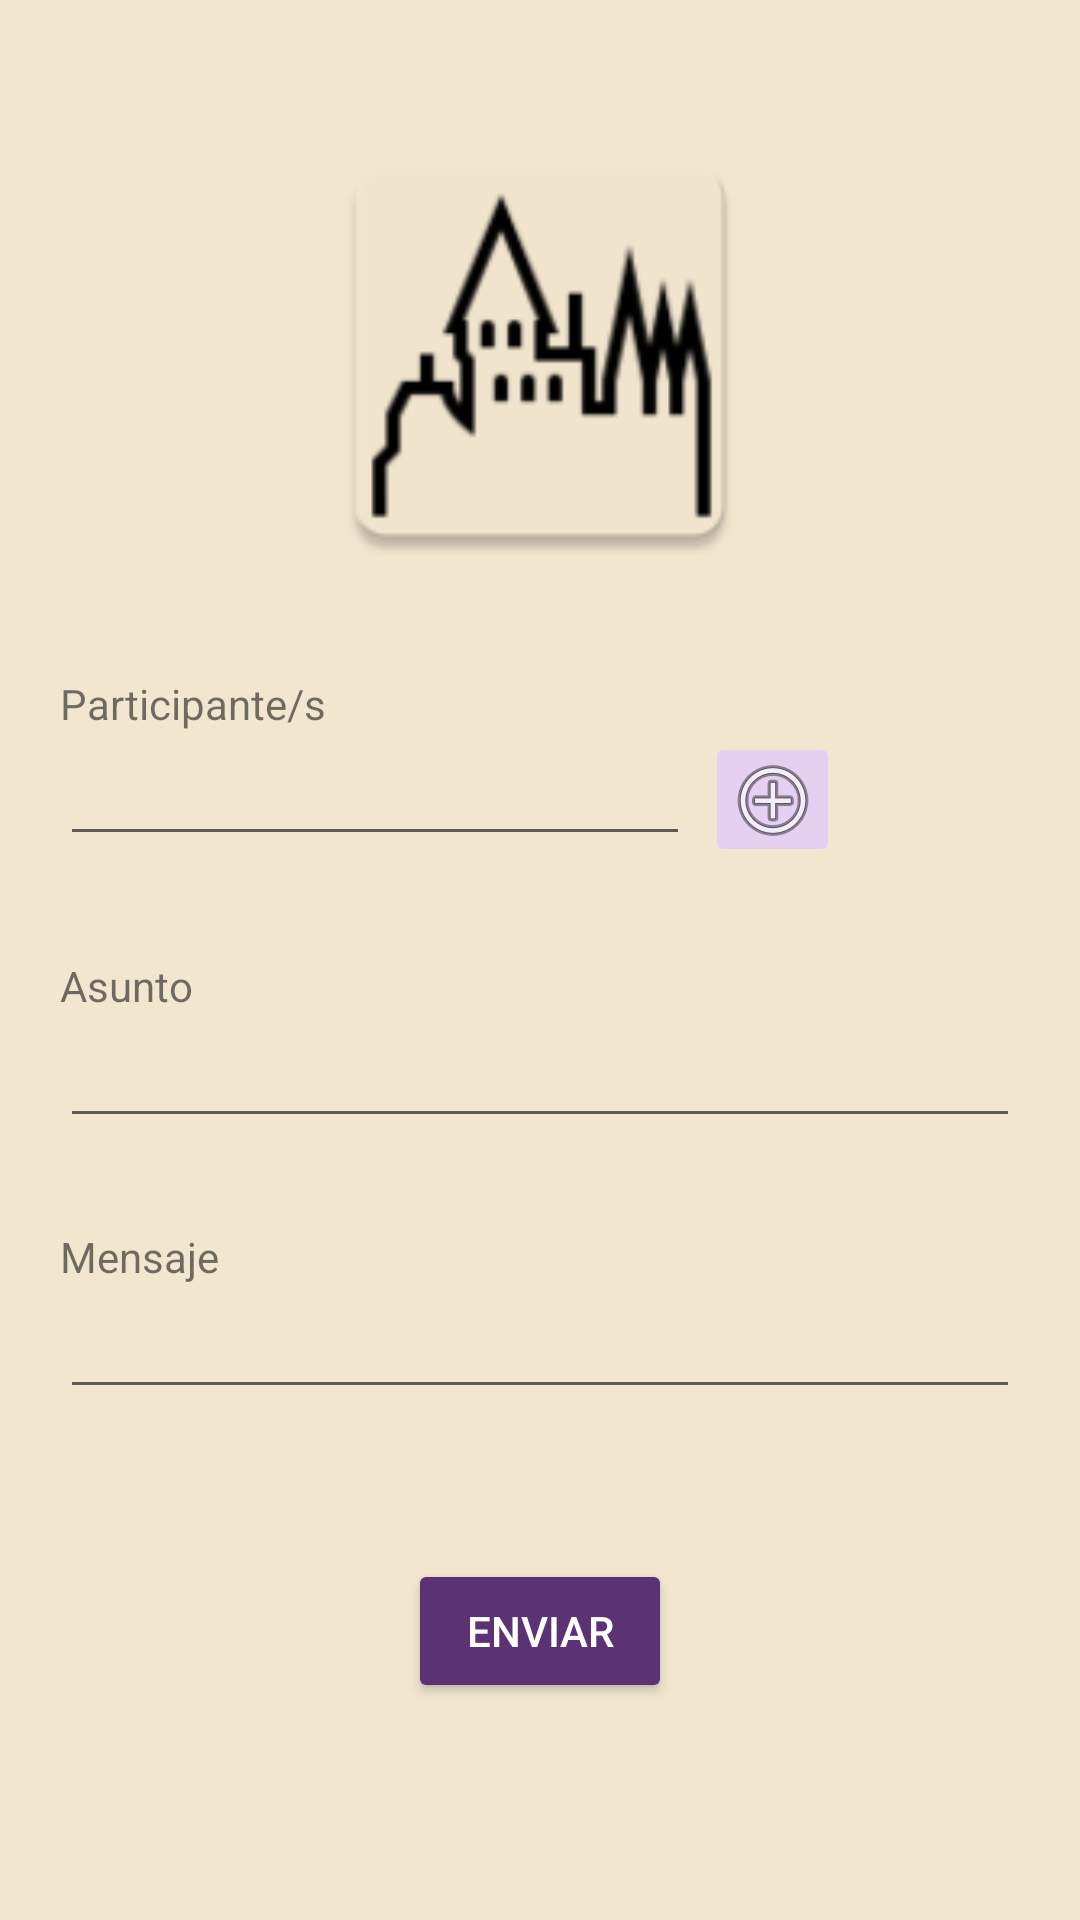

Named icons in this screenshot (1080 x 1920) and their bounding boxes, (x1,y1,x2,y2):
add: (717,750,828,849)
